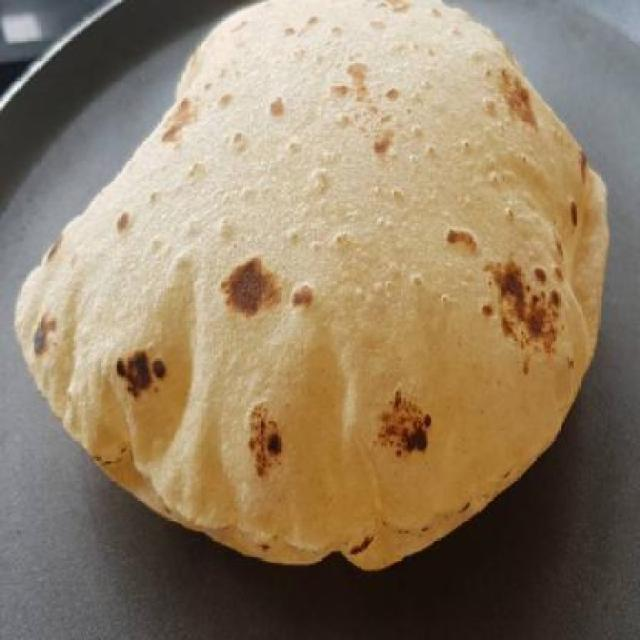chapati: (15, 0, 607, 571)
